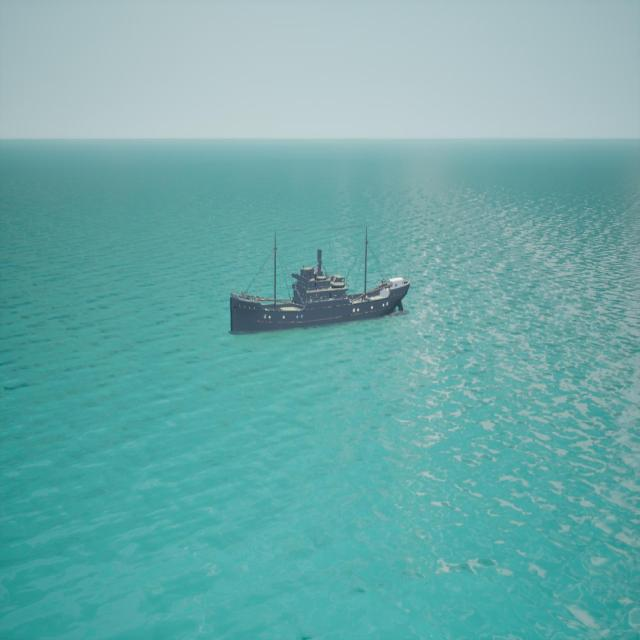fishing ship: (230, 227, 414, 337)
